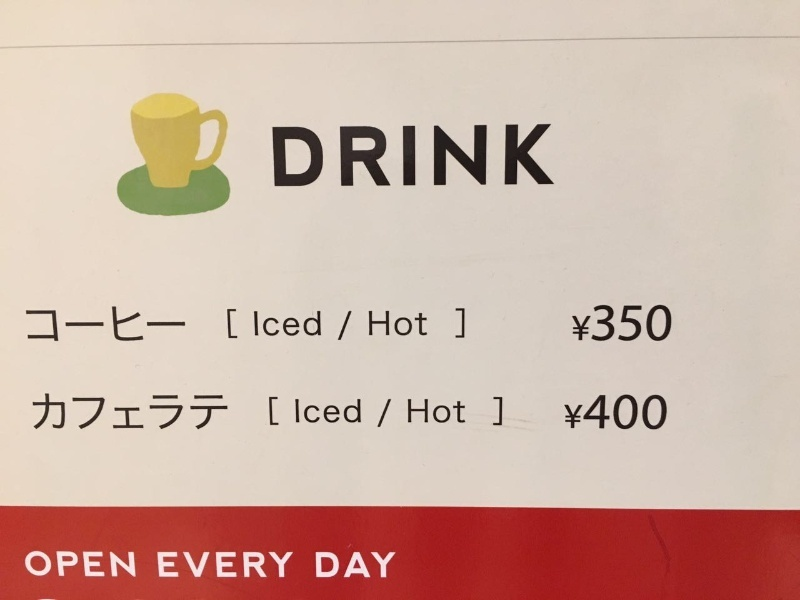text: (273, 125, 288, 187), (289, 125, 304, 187), (305, 125, 320, 187), (321, 125, 336, 187), (337, 125, 352, 187), (353, 125, 368, 187), (369, 125, 384, 187), (385, 125, 400, 187), (401, 125, 416, 187), (417, 125, 432, 187), (433, 125, 448, 187), (449, 125, 464, 187), (465, 125, 480, 187), (481, 125, 496, 187), (497, 125, 512, 187), (513, 125, 528, 187), (529, 125, 544, 187), (545, 125, 556, 187), (33, 305, 48, 343), (49, 305, 64, 343), (65, 305, 80, 343), (81, 305, 96, 343), (97, 305, 112, 343), (113, 305, 128, 343), (129, 305, 144, 343), (145, 305, 160, 343), (161, 305, 176, 343), (33, 393, 48, 429), (49, 393, 64, 429), (65, 393, 80, 429), (81, 393, 96, 429), (97, 393, 112, 429), (113, 393, 128, 429), (129, 393, 144, 429), (145, 393, 160, 429), (161, 393, 176, 429), (177, 393, 192, 429), (193, 393, 208, 429), (209, 393, 224, 429), (577, 306, 592, 342), (593, 306, 608, 342), (609, 306, 624, 342), (625, 306, 640, 342), (641, 306, 656, 342), (657, 306, 672, 342), (577, 395, 592, 430), (593, 395, 608, 430), (609, 395, 624, 430), (625, 395, 640, 430), (641, 395, 656, 430), (273, 397, 288, 428), (289, 397, 304, 428), (305, 397, 320, 428), (321, 397, 336, 428), (337, 397, 352, 428), (353, 397, 368, 428), (369, 397, 384, 428), (385, 397, 400, 428), (401, 397, 416, 428), (417, 397, 432, 428), (433, 397, 448, 428), (449, 397, 464, 428), (465, 397, 480, 428), (481, 397, 496, 428), (241, 309, 256, 339), (257, 309, 272, 339), (273, 309, 288, 339), (289, 309, 304, 339), (305, 309, 320, 339), (321, 309, 336, 339), (337, 309, 352, 339), (353, 309, 368, 339), (369, 309, 384, 339), (385, 309, 400, 339), (401, 309, 416, 339), (417, 309, 432, 339), (433, 309, 448, 339), (449, 309, 464, 339), (657, 395, 669, 430), (33, 551, 48, 577), (49, 551, 64, 577), (65, 551, 80, 577), (81, 551, 96, 577), (97, 551, 112, 577), (113, 551, 128, 577), (161, 552, 176, 578), (177, 552, 192, 578), (193, 552, 208, 578), (209, 552, 224, 578), (225, 552, 240, 578), (241, 552, 256, 578), (257, 552, 272, 578), (273, 552, 288, 578), (321, 552, 336, 578), (337, 552, 352, 578), (353, 552, 368, 578), (369, 552, 384, 578), (565, 395, 576, 430), (228, 309, 240, 339), (177, 305, 186, 343), (385, 552, 396, 578), (26, 305, 32, 343), (24, 551, 32, 577), (129, 551, 136, 577), (497, 397, 502, 428), (572, 306, 576, 342), (289, 552, 294, 578), (225, 393, 228, 429), (316, 552, 320, 578), (269, 397, 272, 428), (157, 552, 160, 578), (673, 306, 674, 342), (465, 309, 466, 339)
